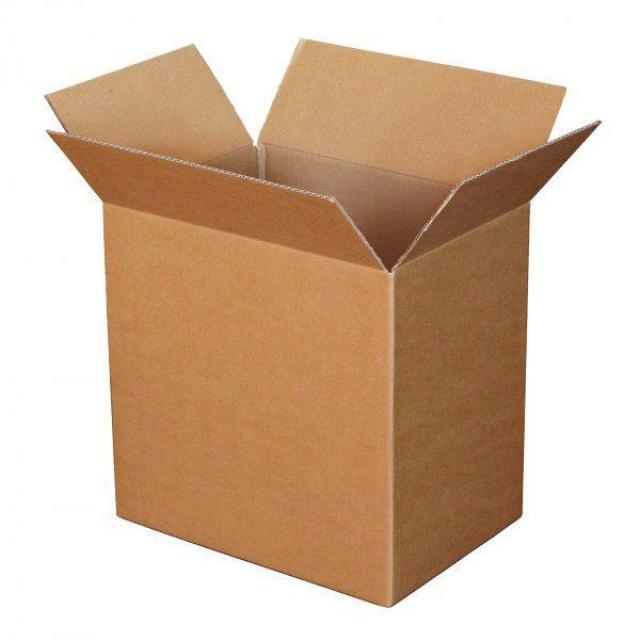Garbage: (42, 35, 602, 615)
